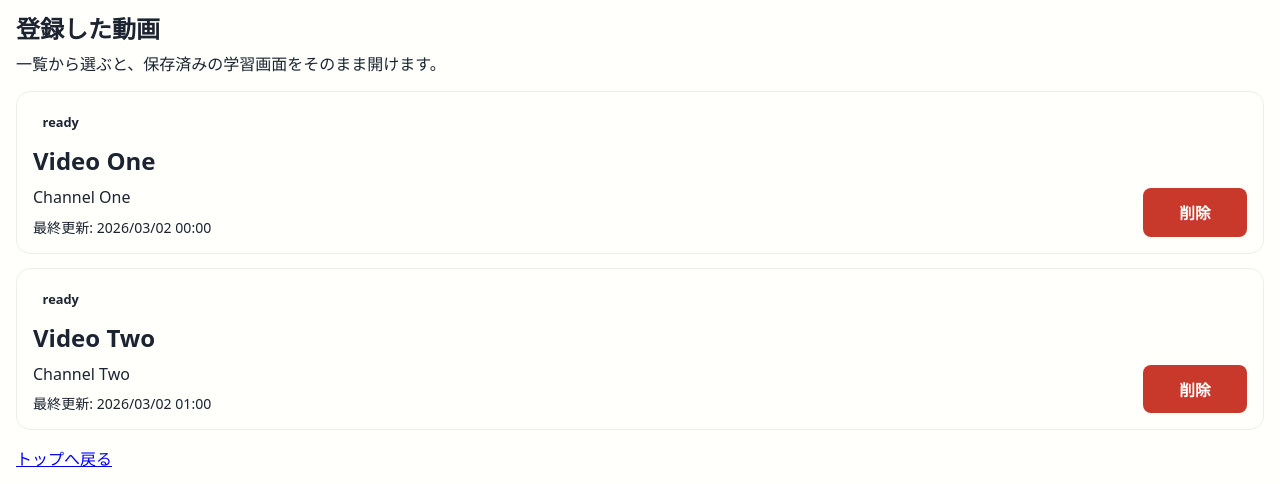
Scenario: MaterialHistoryList › deletes a registered video from the list
Expected: the heading "Video One" is shown, x1=33 y1=144 x2=156 y2=177
Expected: the heading "Video Two" is shown, x1=33 y1=321 x2=155 y2=354
Click the button "削除" in the row of "2026/03/02 00:00" at (1195, 212), box x1=1143 y1=188 x2=1247 y2=237
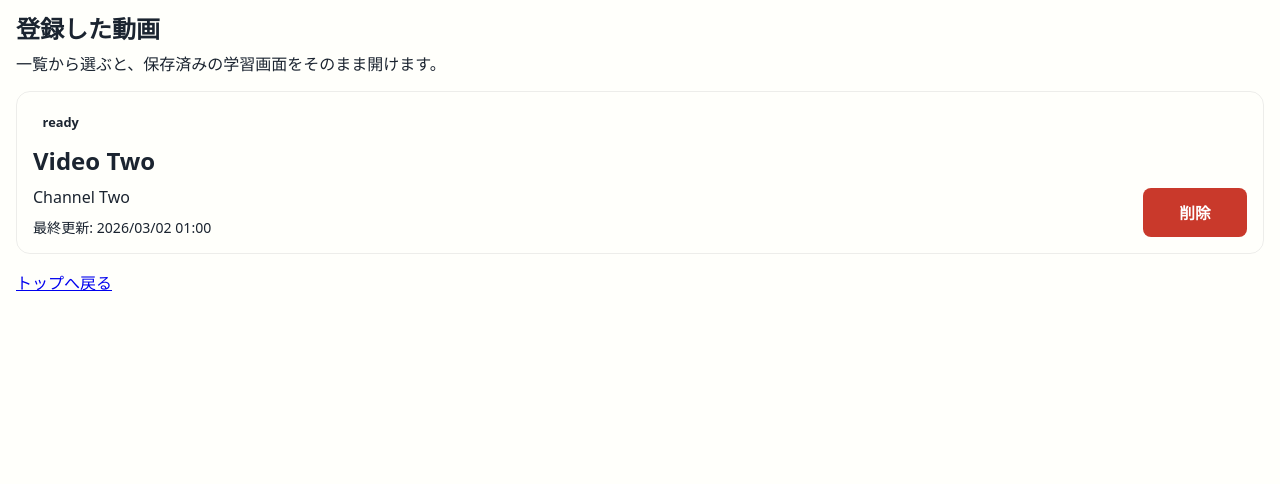
Expected: the heading "Video Two" is shown, x1=33 y1=144 x2=155 y2=177
Result: the link "Video One" is gone
